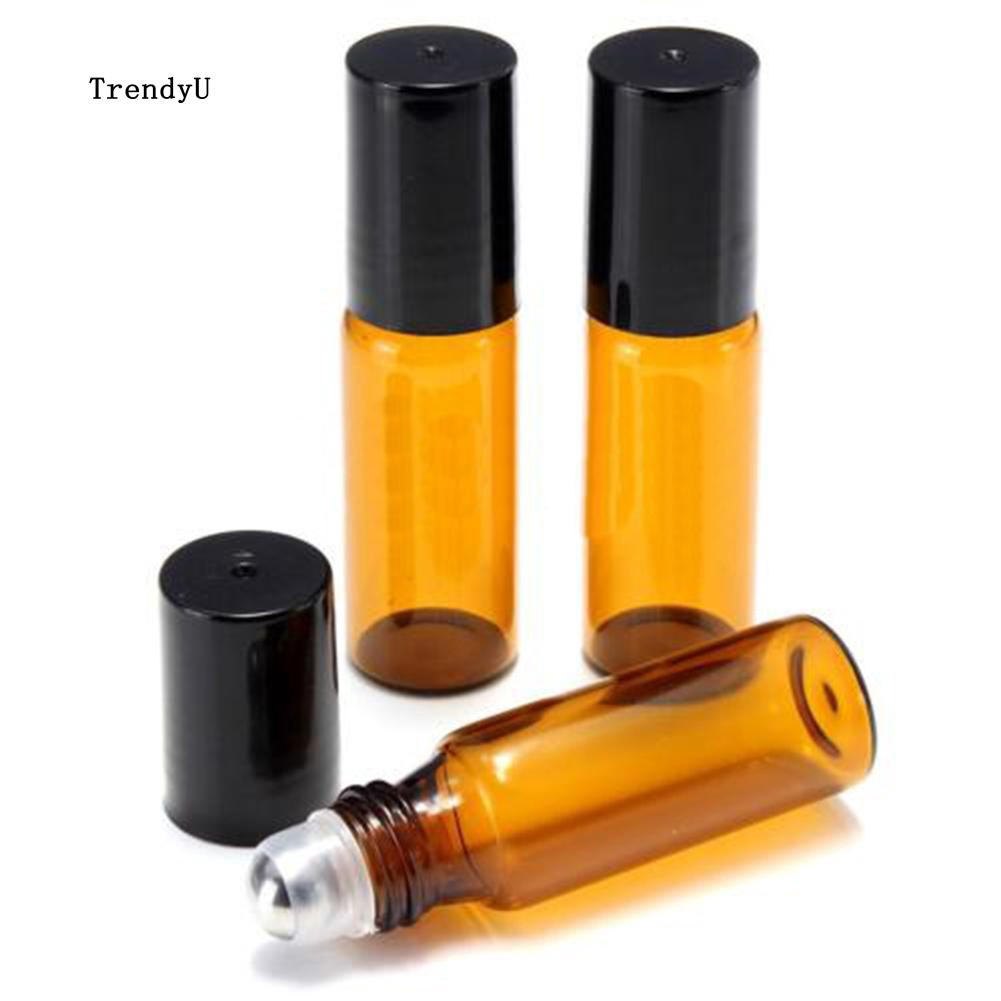glass_bottle: (227, 608, 887, 964), (573, 18, 781, 708), (330, 17, 534, 705)
